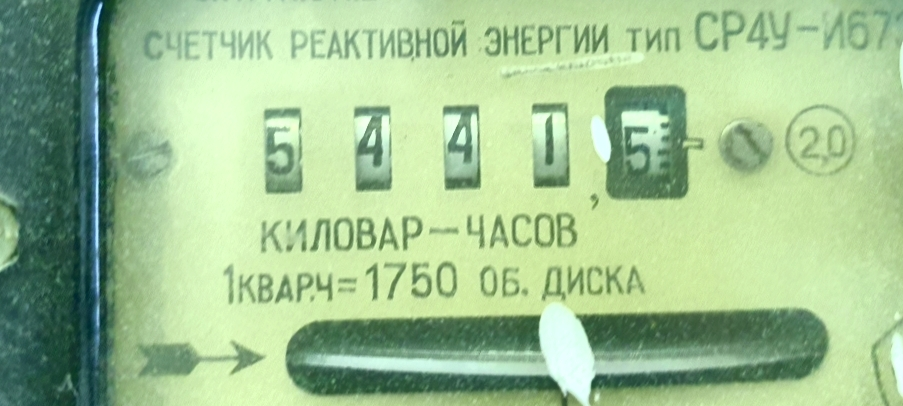1: (536, 111, 561, 170)
4: (441, 105, 479, 172), (353, 110, 389, 171)
5: (260, 122, 300, 179), (619, 119, 655, 182)
screen: (238, 55, 714, 229)
